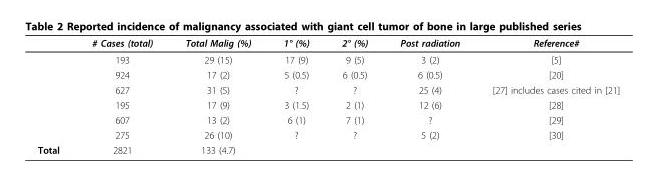table: (37, 37, 619, 155)
table column: (475, 37, 619, 155), (168, 37, 266, 155), (75, 37, 168, 155), (383, 37, 475, 155), (324, 37, 383, 155), (266, 37, 324, 155), (37, 37, 75, 155)
table column header: (37, 37, 619, 51)
table row: (37, 66, 619, 82), (37, 51, 619, 66), (37, 82, 619, 97), (37, 97, 619, 112), (37, 112, 619, 127), (37, 127, 619, 142), (37, 37, 619, 51), (37, 142, 619, 155)
